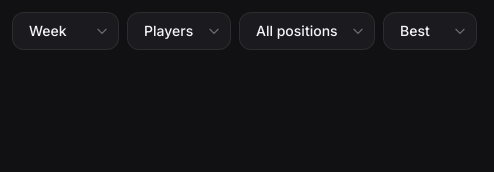
Test: FilterBar — entity & position › changing entity to team writes URL param
Select "Teams" in the dropdown named "entity" at (179, 31), box [127,12,231,50]
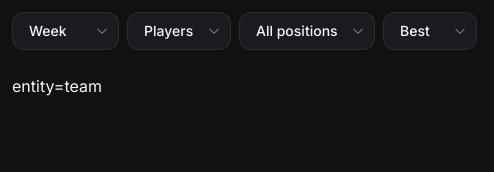
Now the text with test id "probe" reads "entity=team", box [12,76,102,96]
